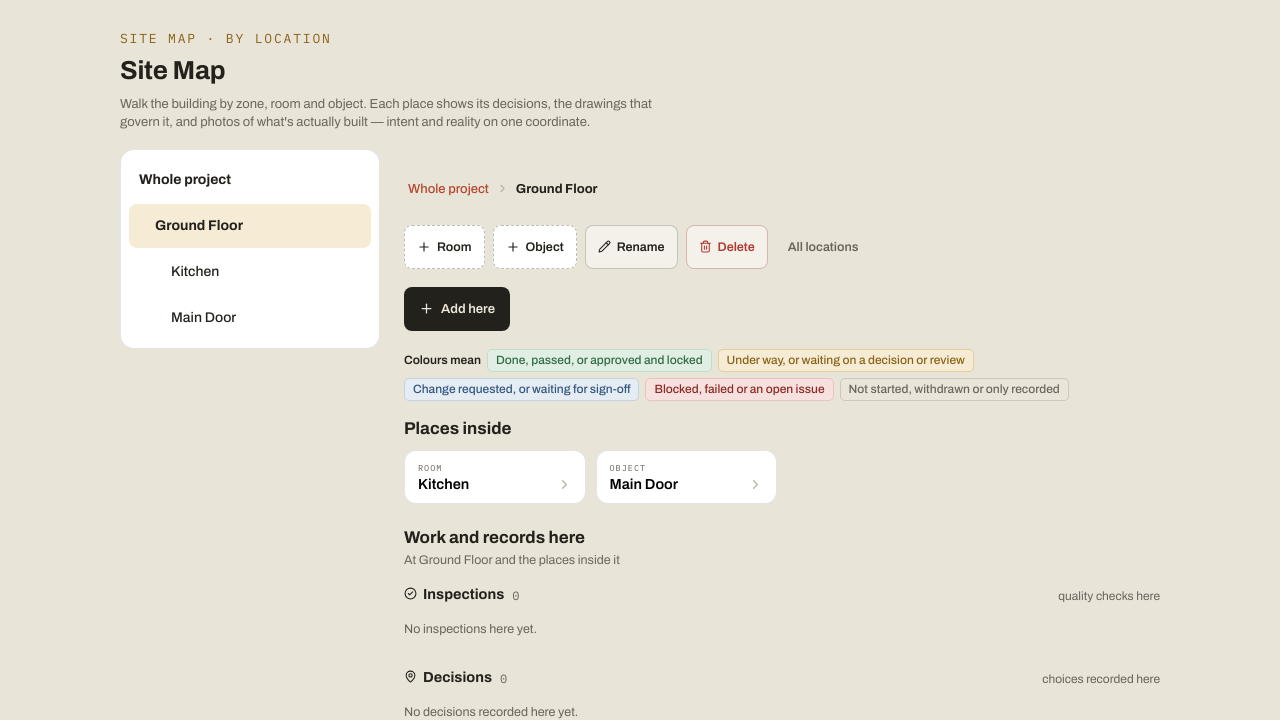
Test case: B3 — the PMC builds the tree on the Site Map › standing on Ground Floor, "+ Room" adds a room INSIDE it
Click the button with test id "place-add-room" at (444, 247), box 404,225 -> 485,269
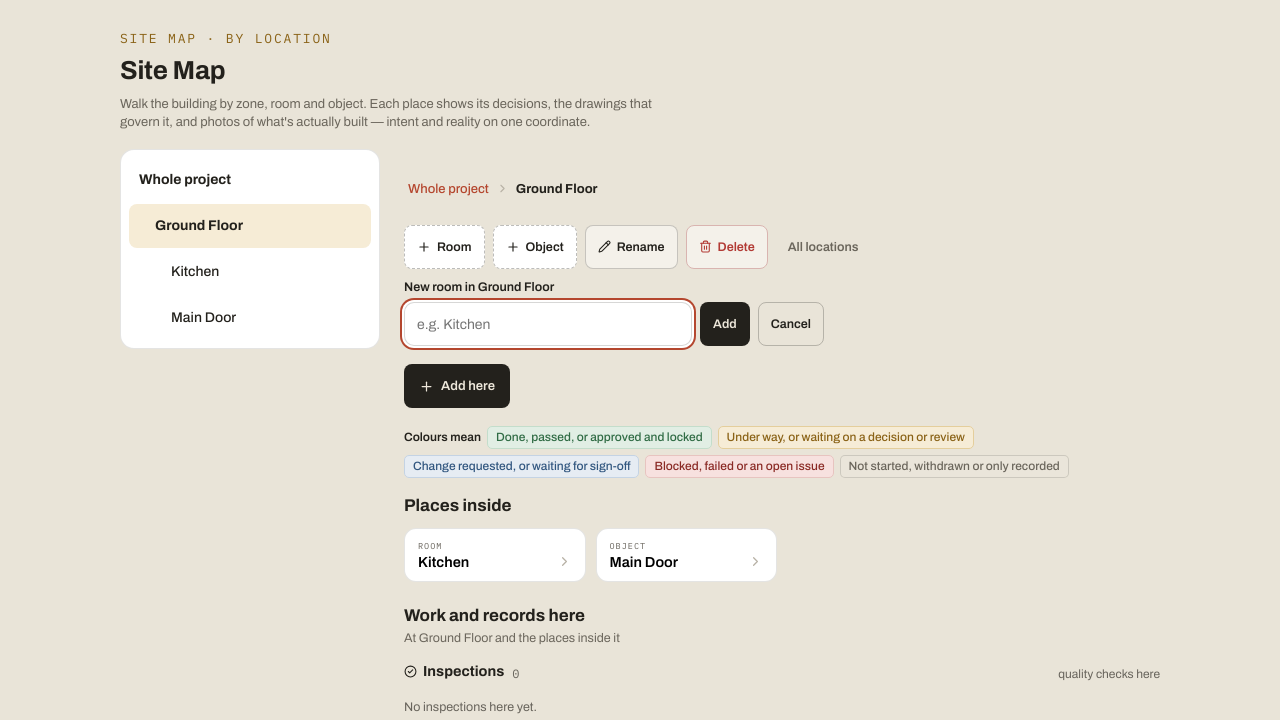
Type "Pantry" into the field labelled "New room in Ground Floor" at (548, 324), box 404,302 -> 692,346
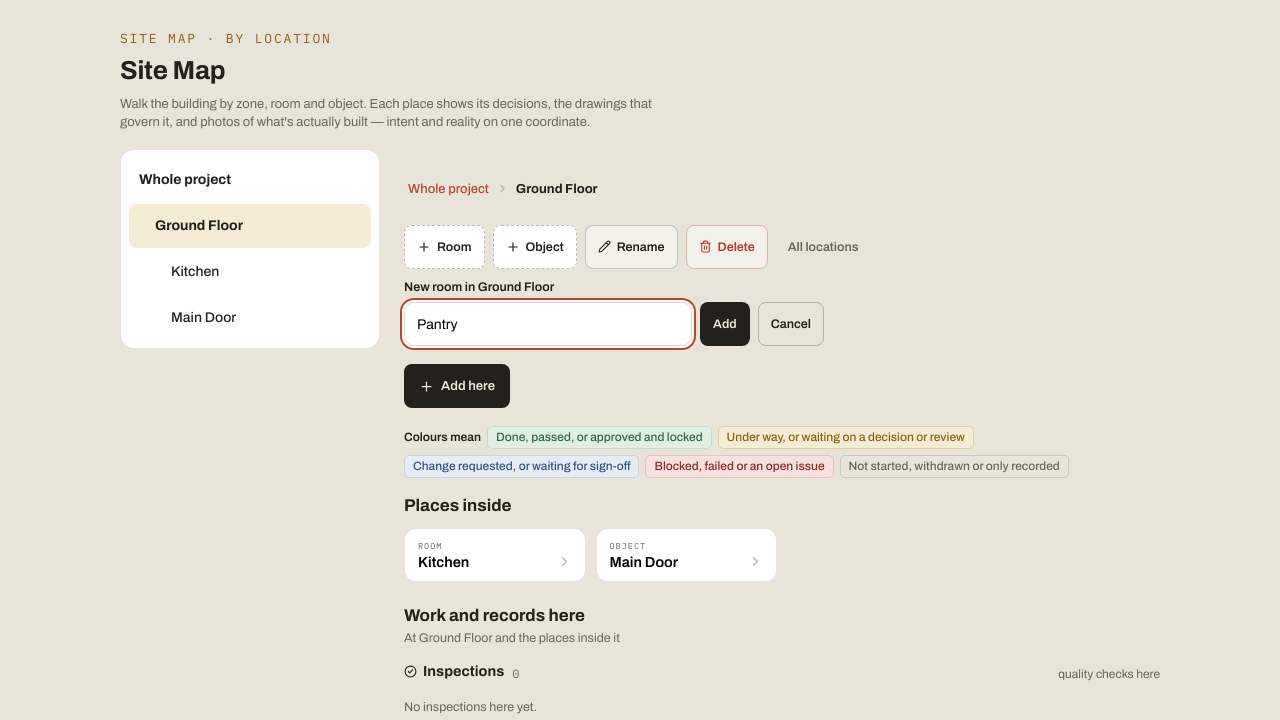
Click the button with test id "place-structure-save" at (725, 324), box 700,302 -> 750,346
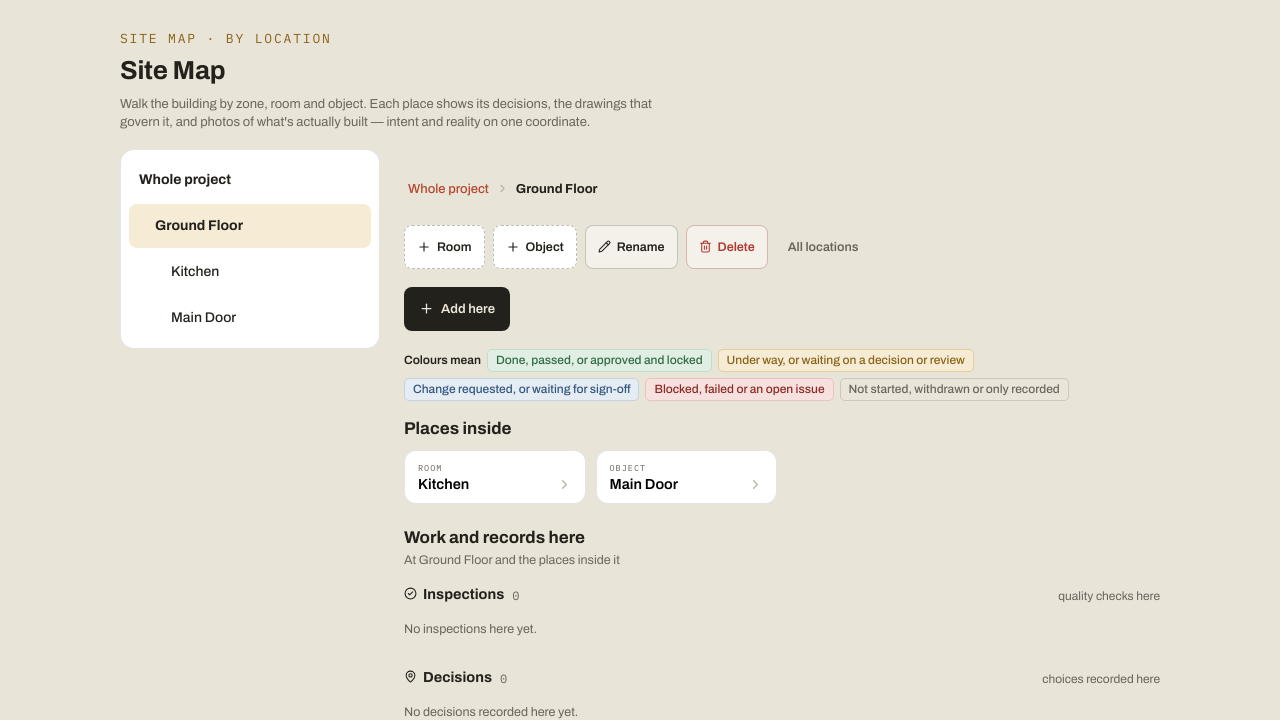
Check: the form with test id "place-structure-form" is gone
